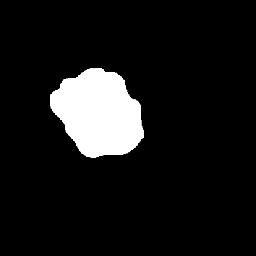mass: (62, 71, 138, 153)
